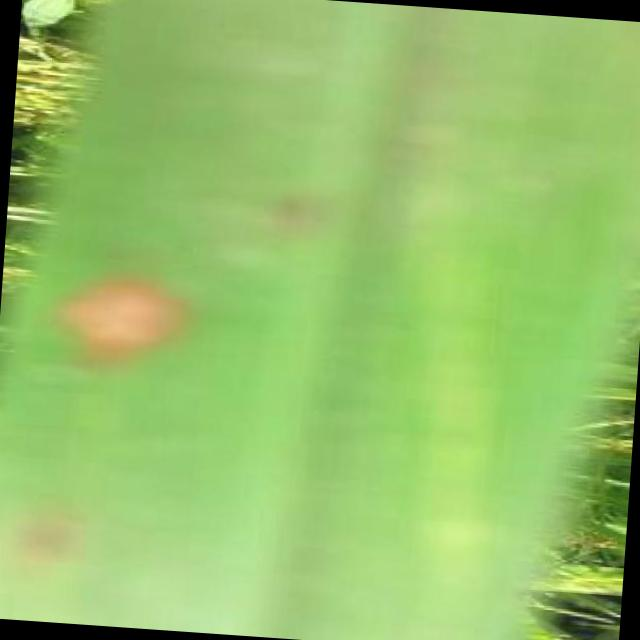Rice_Blast: (34, 234, 208, 427)
